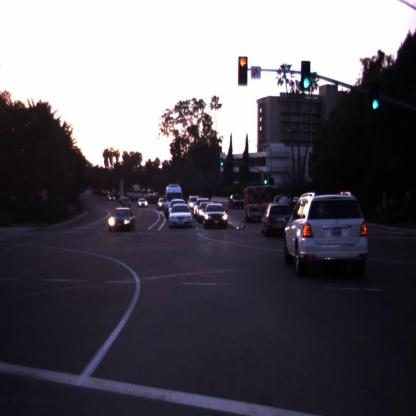trafficlight: (299, 57, 313, 94), (369, 77, 382, 113), (237, 55, 249, 87), (264, 170, 269, 186), (221, 157, 225, 167)
